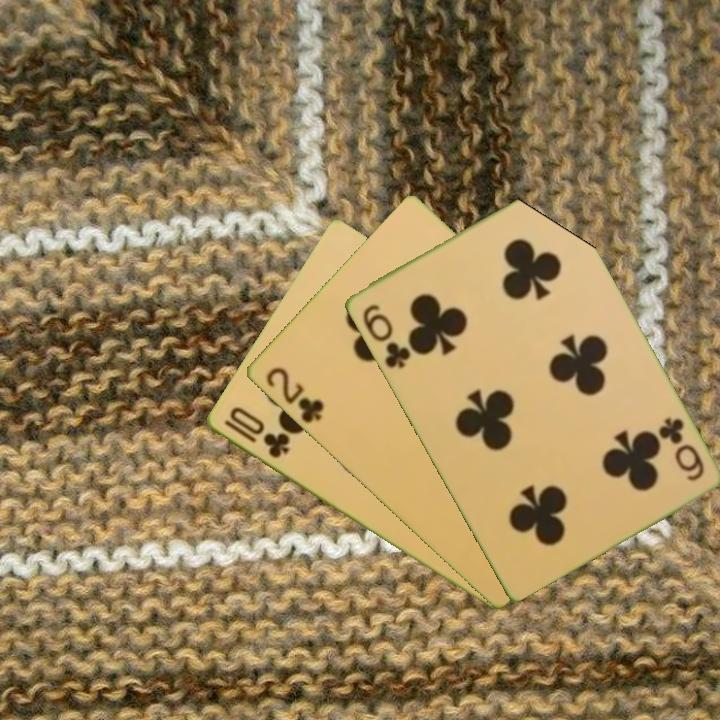10c: (220, 403, 292, 462)
2c: (261, 363, 326, 427)
6c: (358, 300, 414, 371), (654, 413, 707, 484)
